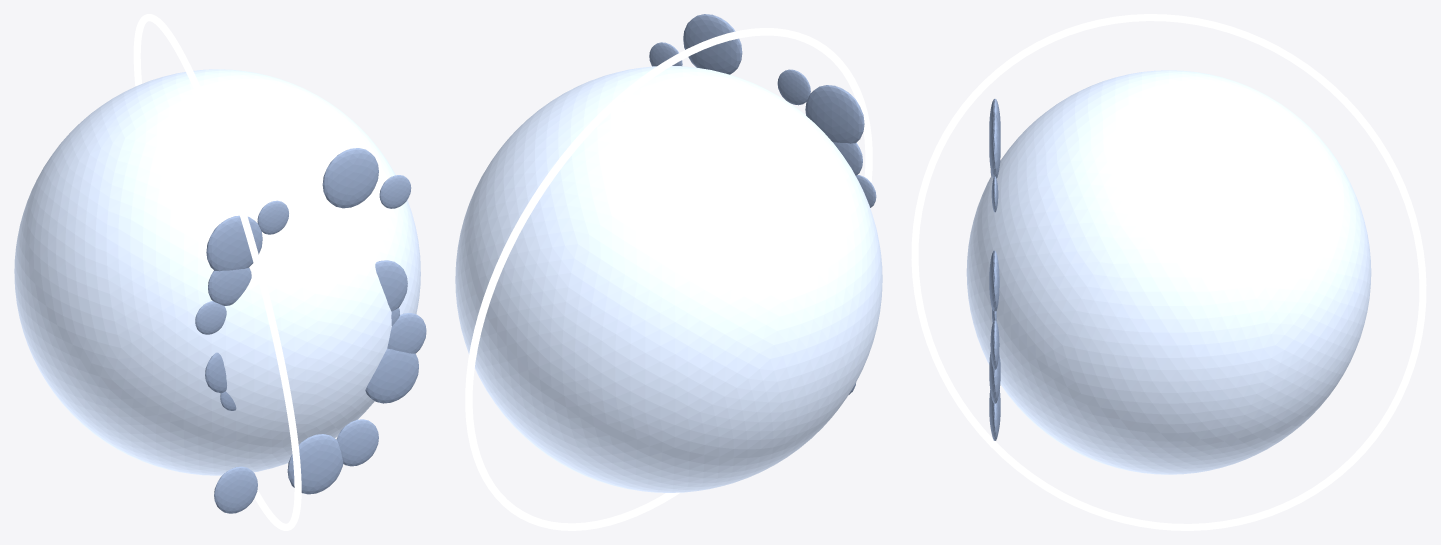
File: lunar.glb
3 views of the same model, side by side, from view 1: azimuth 30°, elevation 25°; view 2: azimuth 150°, elevation 25°; view 3: azimuth 270°, elevation 25° (orthographic). The views are drawn at different scales.
Visible parts, largest first — view 1: lunar_part_000, lunar_part_016, lunar_part_012, lunar_part_003, lunar_part_015, lunar_part_006, lunar_part_008, lunar_part_011, lunar_part_002, lunar_part_014, lunar_part_009, lunar_part_004 (+3 smaller); view 2: lunar_part_000, lunar_part_016, lunar_part_015, lunar_part_012, lunar_part_007, lunar_part_002, lunar_part_004; view 3: lunar_part_000, lunar_part_016, lunar_part_012.
Boxes of the visible parts, left/top/right/bottom form: lunar_part_000: left=14, top=69, right=420, bottom=475; lunar_part_016: left=133, top=14, right=301, bottom=530; lunar_part_012: left=322, top=148, right=378, bottom=208; lunar_part_003: left=287, top=434, right=343, bottom=494; lunar_part_015: left=206, top=215, right=262, bottom=271; lunar_part_006: left=365, top=348, right=418, bottom=403; lunar_part_008: left=214, top=466, right=257, bottom=513; lunar_part_011: left=336, top=419, right=378, bottom=466; lunar_part_002: left=208, top=267, right=251, bottom=305; lunar_part_014: left=387, top=313, right=426, bottom=353; lunar_part_009: left=375, top=260, right=407, bottom=311; lunar_part_004: left=379, top=175, right=411, bottom=208; lunar_part_000: left=455, top=66, right=882, bottom=492; lunar_part_016: left=465, top=28, right=872, bottom=530; lunar_part_015: left=805, top=85, right=864, bottom=143; lunar_part_012: left=683, top=14, right=742, bottom=74; lunar_part_007: left=777, top=69, right=810, bottom=105; lunar_part_002: left=833, top=142, right=862, bottom=175; lunar_part_004: left=649, top=42, right=682, bottom=66; lunar_part_000: left=966, top=70, right=1371, bottom=474; lunar_part_016: left=911, top=14, right=1426, bottom=530; lunar_part_012: left=989, top=116, right=1000, bottom=178.
Bounding box in the file's own units: 2.04 × 2.65 × 2.6.
